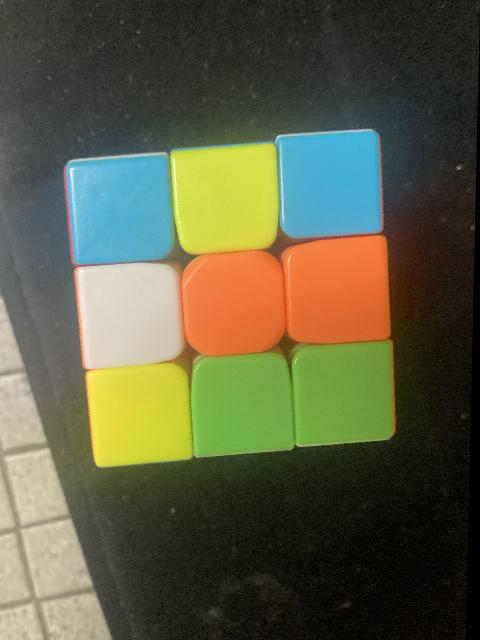Blue: (64, 162, 178, 260), (280, 142, 382, 232)
Green: (197, 362, 293, 454), (303, 356, 393, 444)
Orange: (287, 244, 389, 344), (184, 260, 283, 354)
White: (78, 270, 183, 364)
Yellow: (176, 153, 277, 247), (89, 376, 192, 464)
